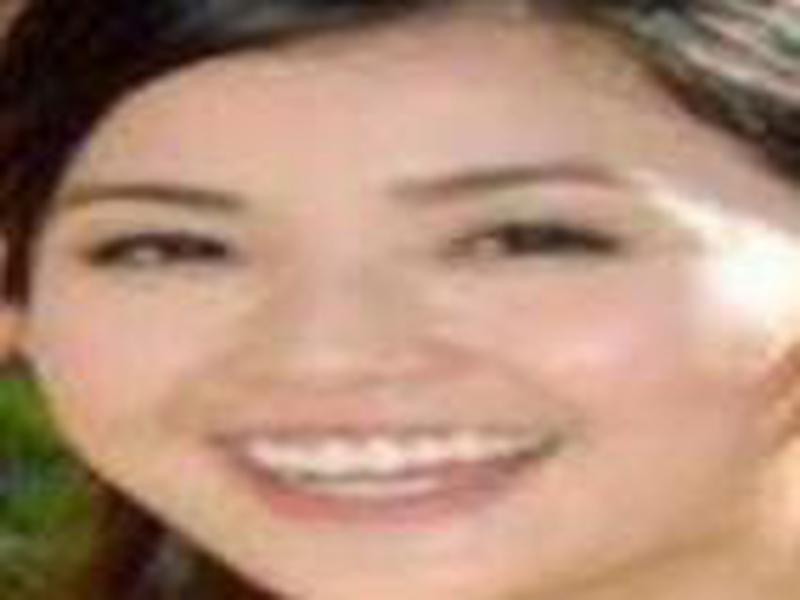without_mask: (28, 83, 753, 600)
